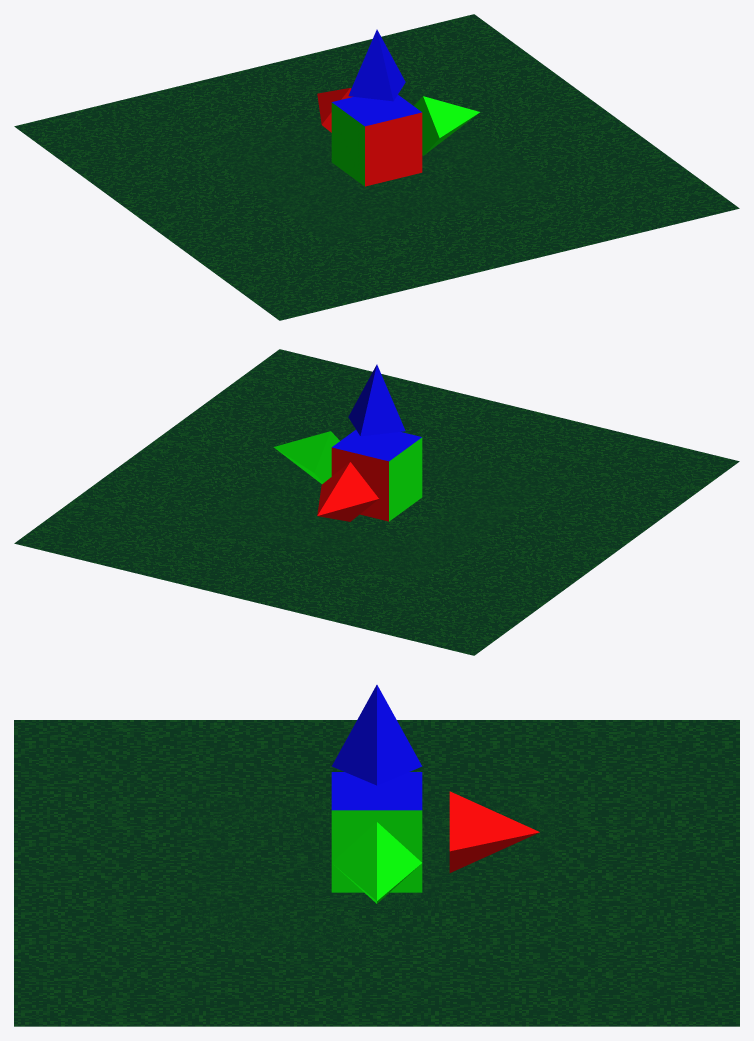
The model's file is Templates.fbx.
3 views of the same model, one above another, from view 1: azimuth 30°, elevation 25°; view 2: azimuth 150°, elevation 25°; view 3: azimuth 270°, elevation 25° (orthographic). The views are drawn at different scales.
Parts seen in each view (by area): view 1: TEMPLATE_SM_Grass_Plane_16x16, TEMPLATE_SM_Grass_Plane_8x8, TEMPLATE_SM_Axes_Box, TEMPLATE_SM_Grass_Plane_4x4; view 2: TEMPLATE_SM_Grass_Plane_16x16, TEMPLATE_SM_Grass_Plane_8x8, TEMPLATE_SM_Axes_Box, TEMPLATE_SM_Grass_Plane_4x4; view 3: TEMPLATE_SM_Grass_Plane_16x16, TEMPLATE_SM_Axes_Box, TEMPLATE_SM_Grass_Plane_8x8, TEMPLATE_SM_Grass_Plane_4x4.
Boxes of the visible parts, <box> form: TEMPLATE_SM_Grass_Plane_16x16: <box>14,14,739,320</box>; TEMPLATE_SM_Grass_Plane_8x8: <box>196,91,556,243</box>; TEMPLATE_SM_Axes_Box: <box>317,29,480,186</box>; TEMPLATE_SM_Grass_Plane_4x4: <box>313,151,467,205</box>; TEMPLATE_SM_Grass_Plane_16x16: <box>14,349,739,655</box>; TEMPLATE_SM_Grass_Plane_8x8: <box>196,426,557,578</box>; TEMPLATE_SM_Axes_Box: <box>273,364,422,521</box>; TEMPLATE_SM_Grass_Plane_4x4: <box>333,481,467,540</box>; TEMPLATE_SM_Grass_Plane_16x16: <box>14,720,739,1026</box>; TEMPLATE_SM_Axes_Box: <box>331,685,539,903</box>; TEMPLATE_SM_Grass_Plane_8x8: <box>195,796,558,949</box>; TEMPLATE_SM_Grass_Plane_4x4: <box>286,835,467,911</box>.
Size of the model in its own units: 1600 by 1600 by 460.
Materials: 4 (1 with a texture image).
